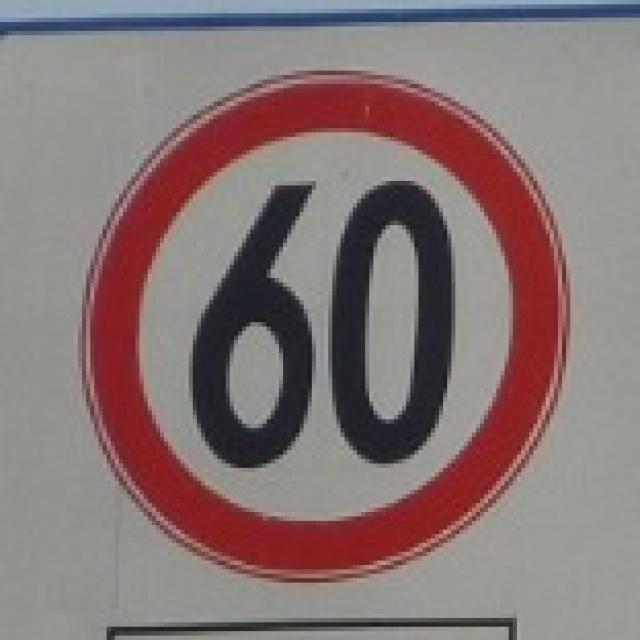Speed Limit -60-: (182, 165, 454, 474)
